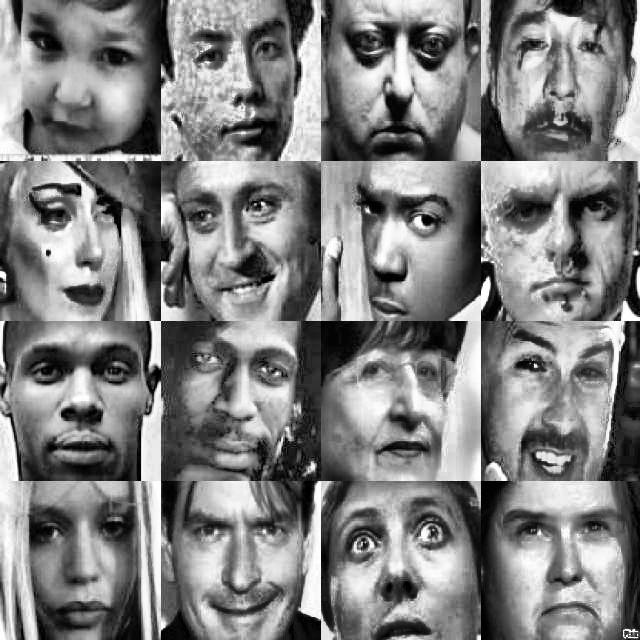angry: (350, 173, 466, 311), (499, 186, 621, 302)
fear: (514, 333, 612, 469), (351, 522, 462, 636)
happy: (182, 185, 296, 303), (193, 512, 290, 620)
neutral: (28, 22, 144, 144), (37, 496, 133, 630), (189, 18, 289, 146), (355, 352, 457, 474), (350, 15, 452, 131), (195, 359, 297, 475), (36, 358, 136, 461)
sad: (28, 182, 136, 306), (514, 13, 610, 137), (507, 504, 604, 615)
